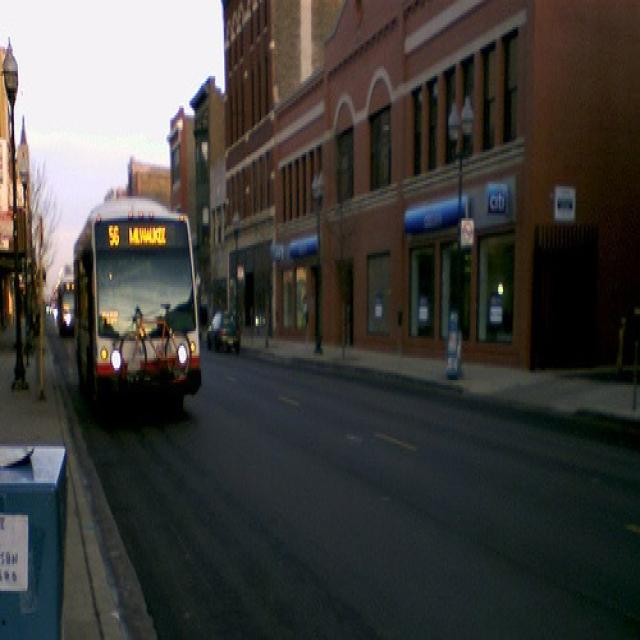bicycle: (119, 302, 191, 385)
bus: (70, 196, 200, 414), (56, 277, 76, 331)
car: (209, 309, 242, 358)
